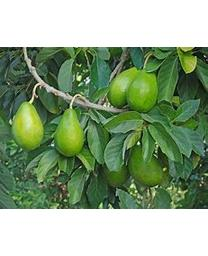avocado: (52, 103, 87, 159), (127, 143, 165, 188), (11, 101, 45, 151), (107, 66, 139, 109), (127, 70, 156, 112)
